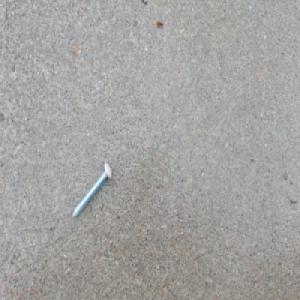Nail: (70, 160, 113, 220)
